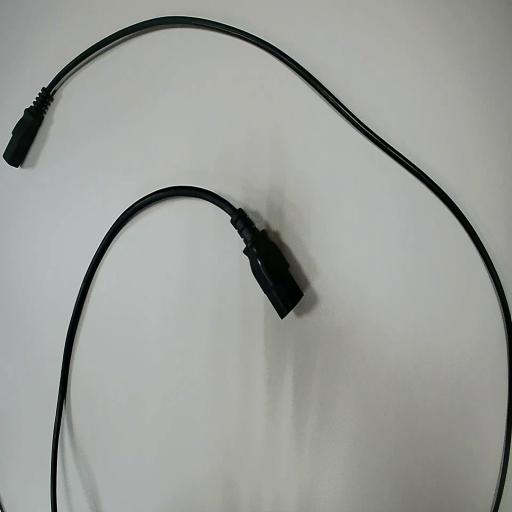wire: (4, 17, 511, 511), (52, 187, 303, 511)
